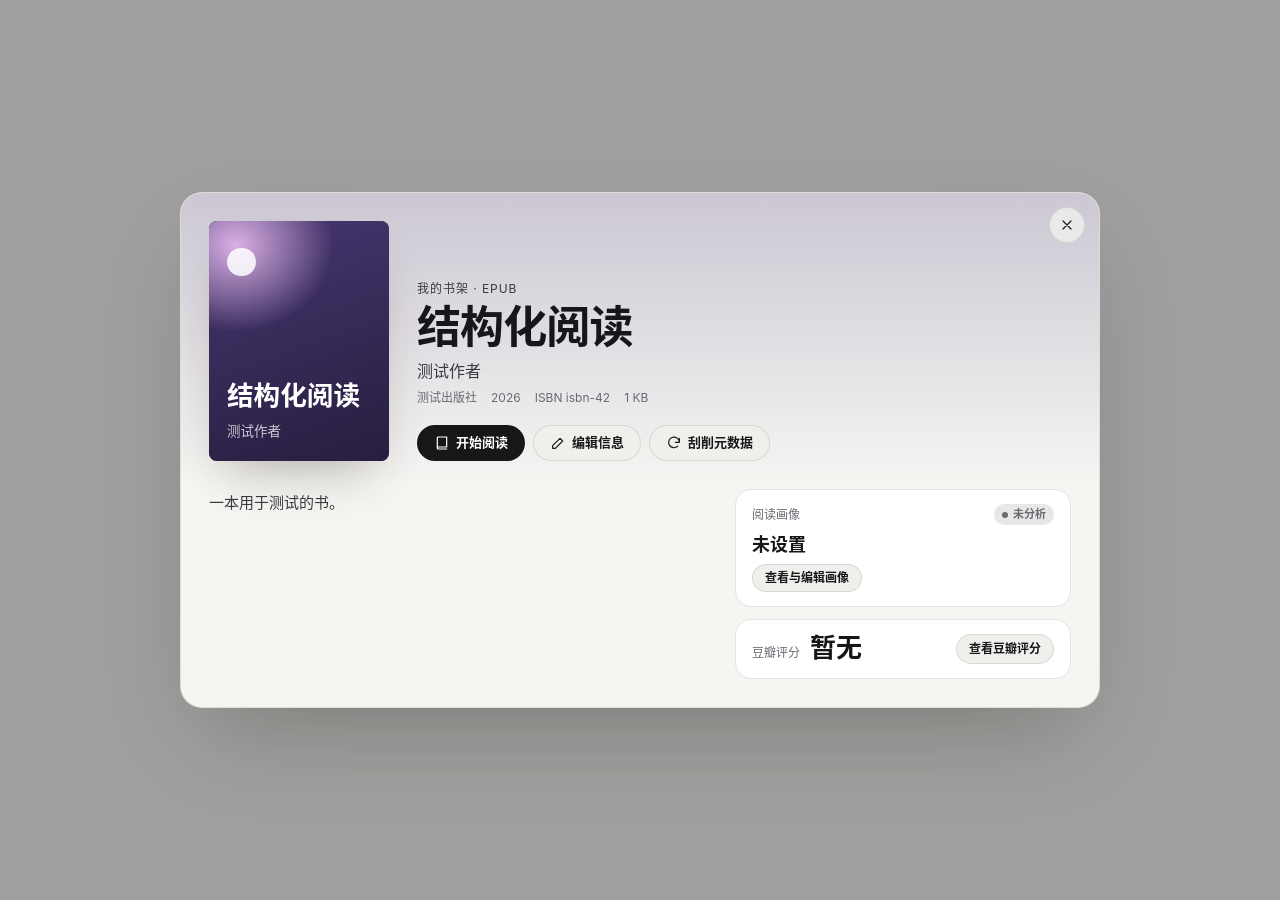
Test: BookDetailModal 书籍画像 › 画像抽屉内提供独立帮助控件
Click the button "查看与编辑画像" at x=807, y=578, box [752,564,862,592]
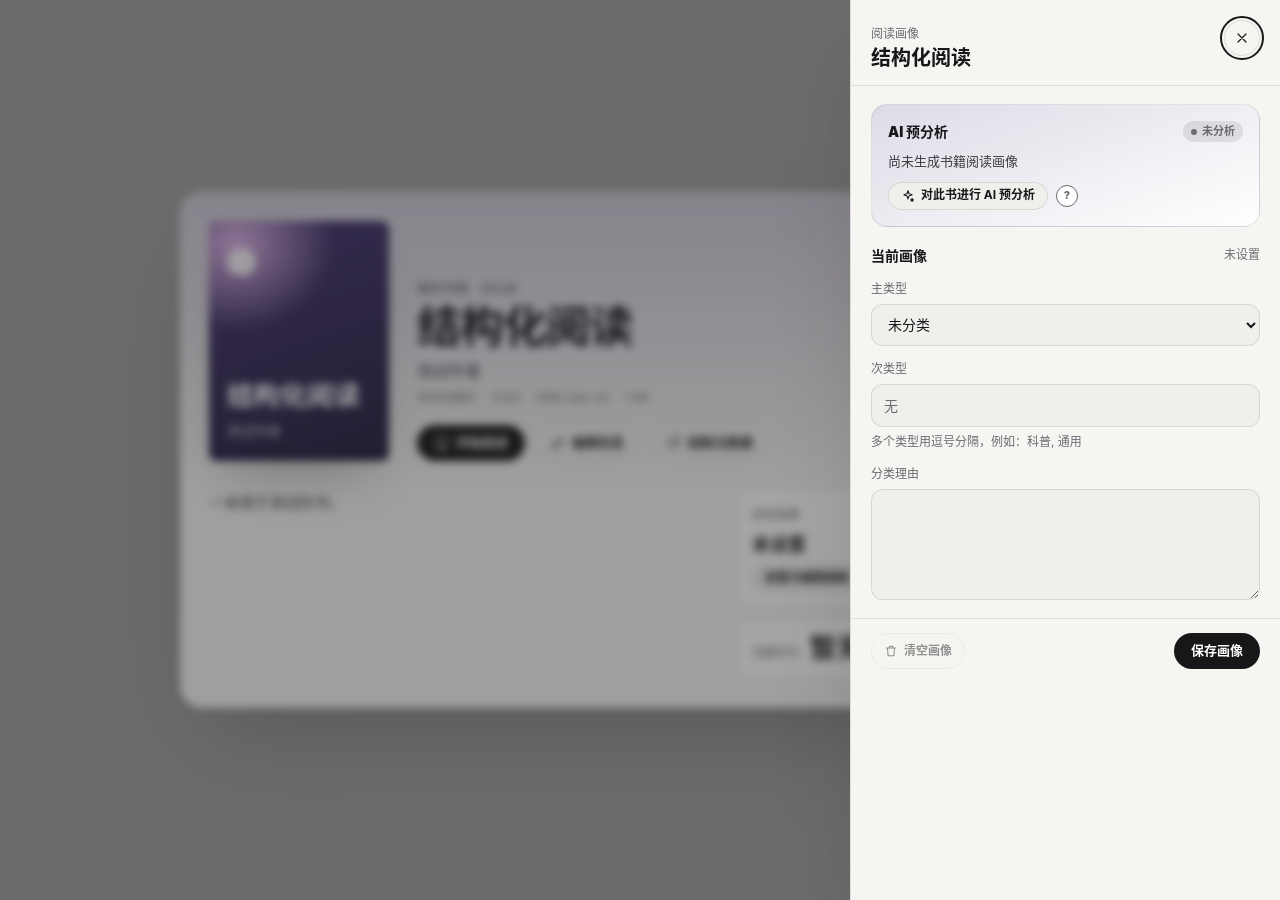
Expected: the button named "AI 预分析说明" reads "?", [1056,184,1078,206]
